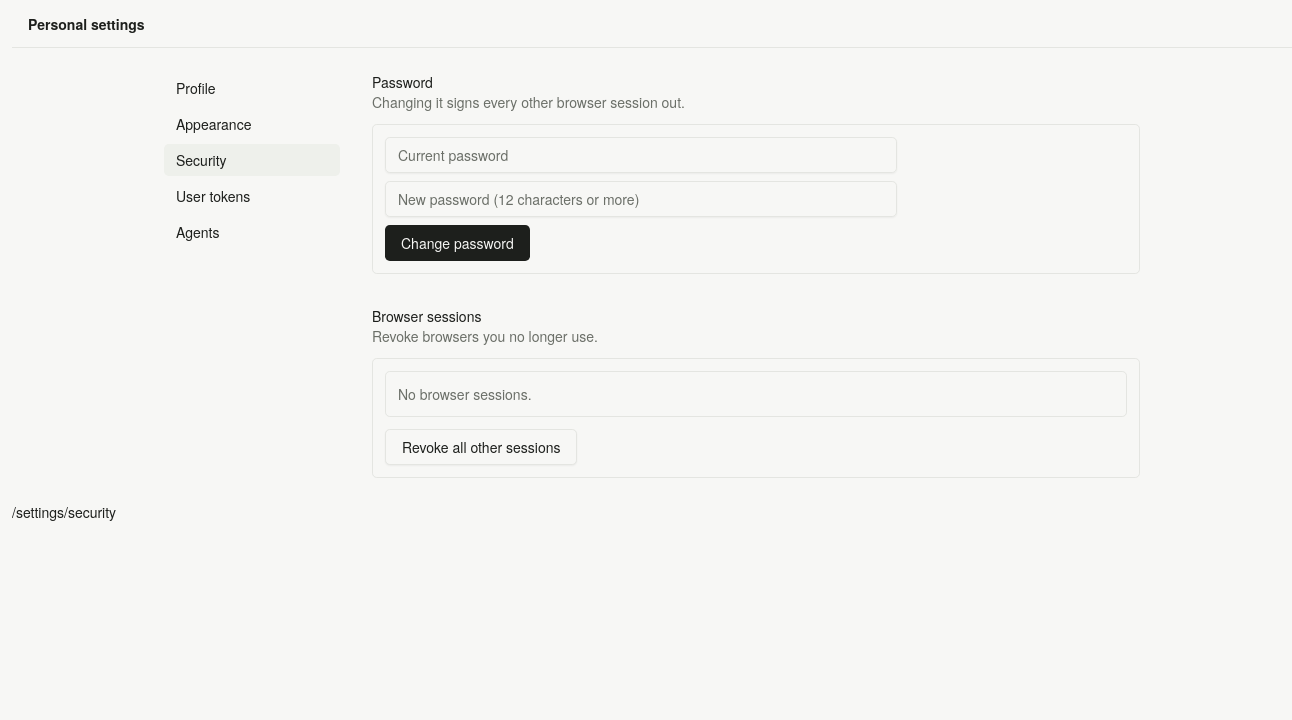
Test case: reports a changed password as saved and clears the fields
The width and height of the screenshot is (1292, 720).
In the password field labelled "Current password": (641, 155) [385,137,897,173], type "a long first password"
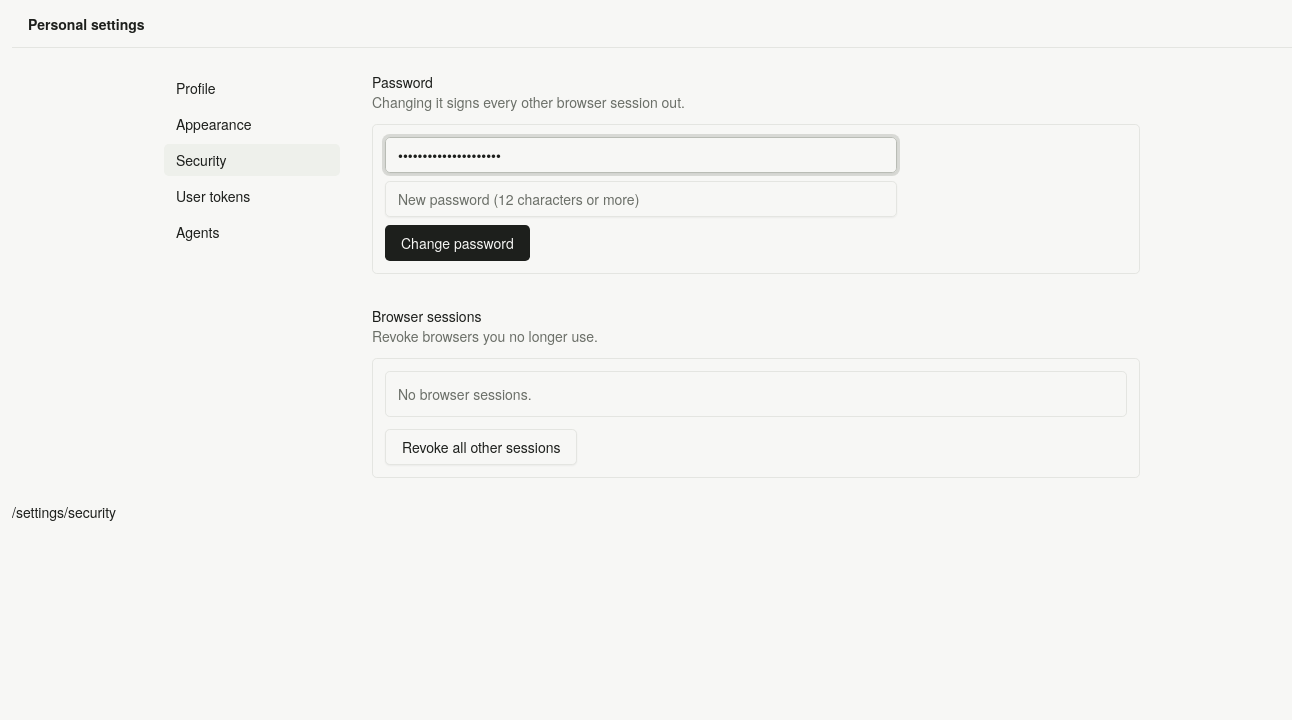
In the password field labelled "New password": (641, 199) [385,181,897,217], type "a long second password"
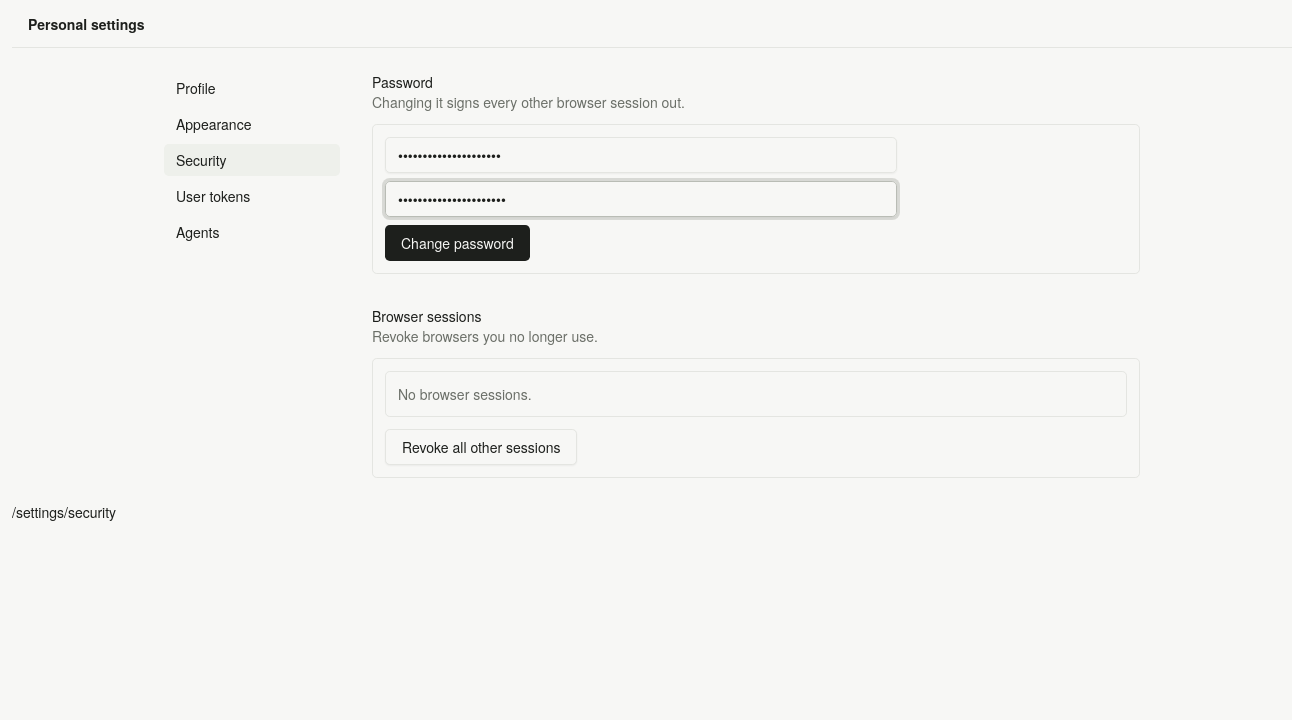
Click the button "Change password": (457, 243) [385,225,530,261]
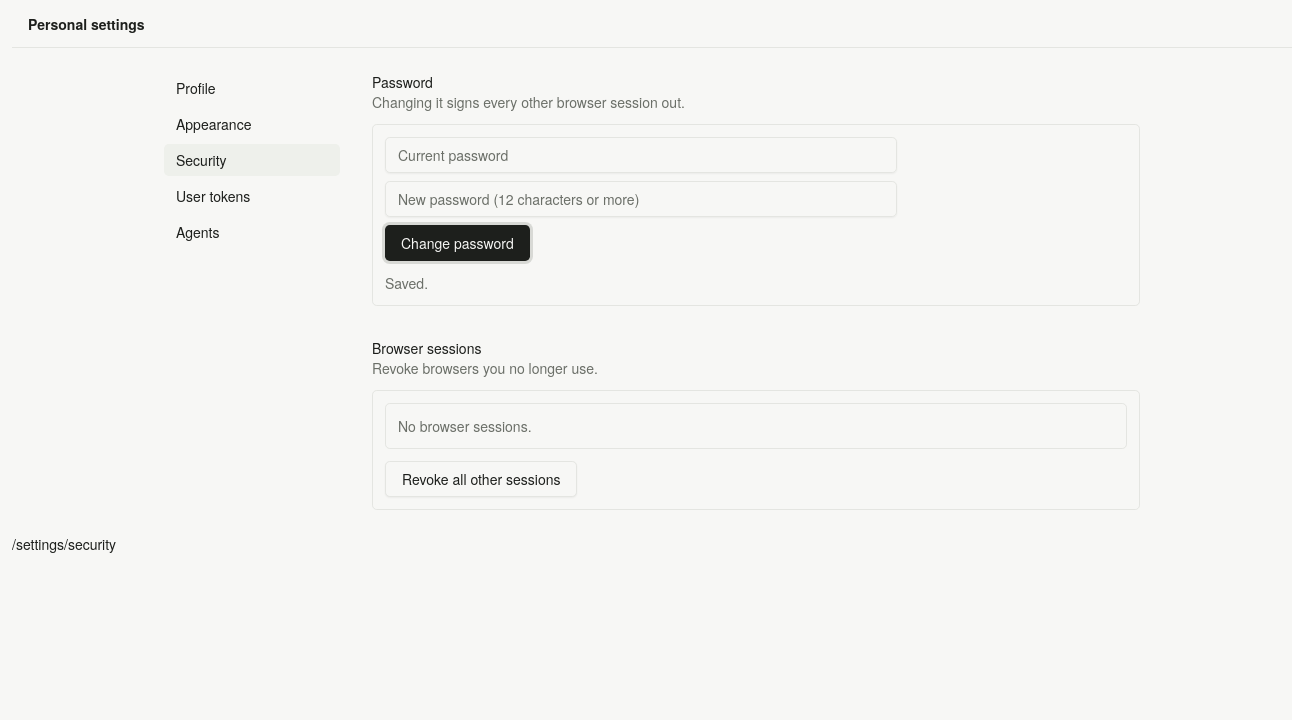
Now the message reads "Saved.", box [385,273,428,293]
Now the password field labelled "Current password" is empty, box [385,137,897,173]
Now the password field labelled "New password" is empty, box [385,181,897,217]
